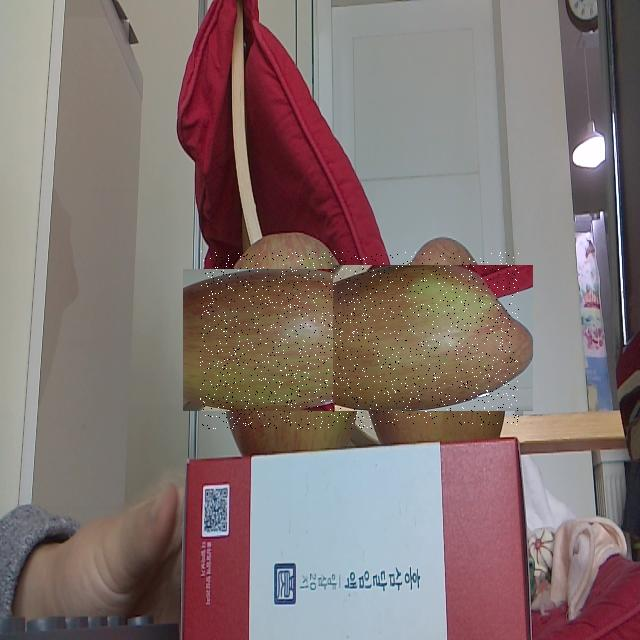apple: (200, 251, 377, 429), (346, 252, 519, 425)
